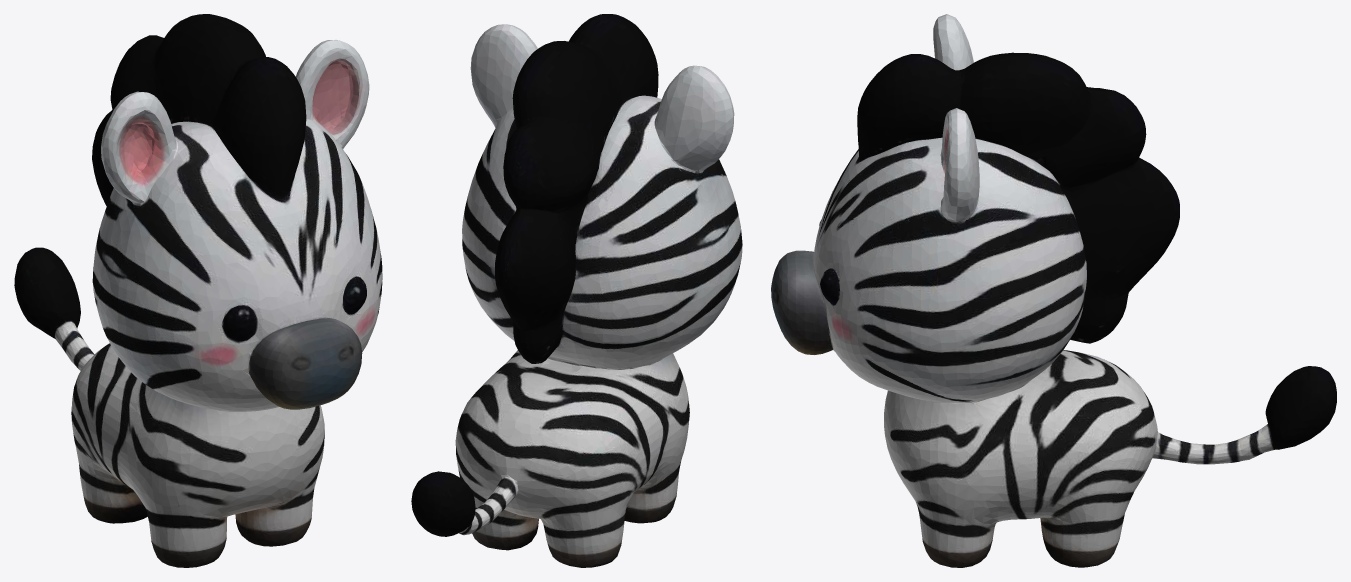
File: zebra.glb
The picture shows the model from 3 angles, left to right: view 1: azimuth 30°, elevation 25°; view 2: azimuth 150°, elevation 25°; view 3: azimuth 270°, elevation 25°; orthographic projection. The views are drawn at different scales.
Visible parts, largest first — view 1: geometry_0; view 2: geometry_0; view 3: geometry_0.
Part boxes in pixels (bbox=[...]): geometry_0: bbox=[14, 14, 382, 567]; geometry_0: bbox=[411, 14, 742, 567]; geometry_0: bbox=[771, 14, 1336, 567].
Bounding box in the file's own units: 0.5416 × 0.9562 × 0.998.
1 material, 1 textured.
